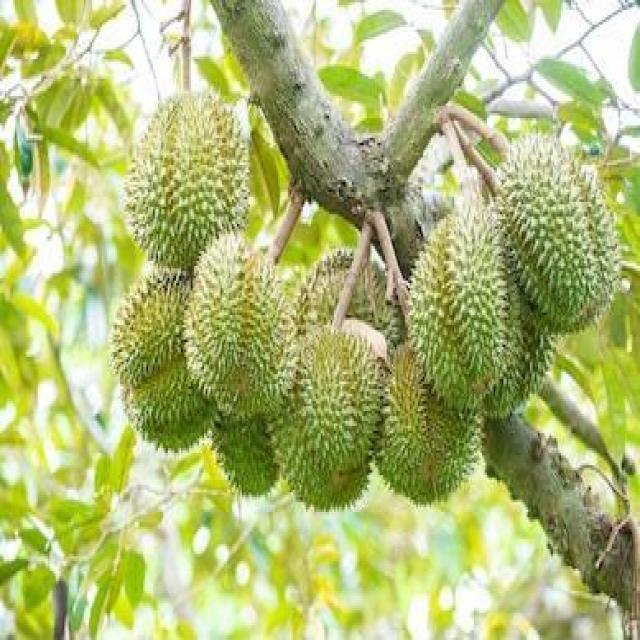immature: (404, 197, 526, 413), (496, 129, 616, 337), (265, 320, 387, 516), (122, 90, 252, 273), (183, 225, 300, 421), (111, 268, 217, 452), (373, 340, 486, 512)
